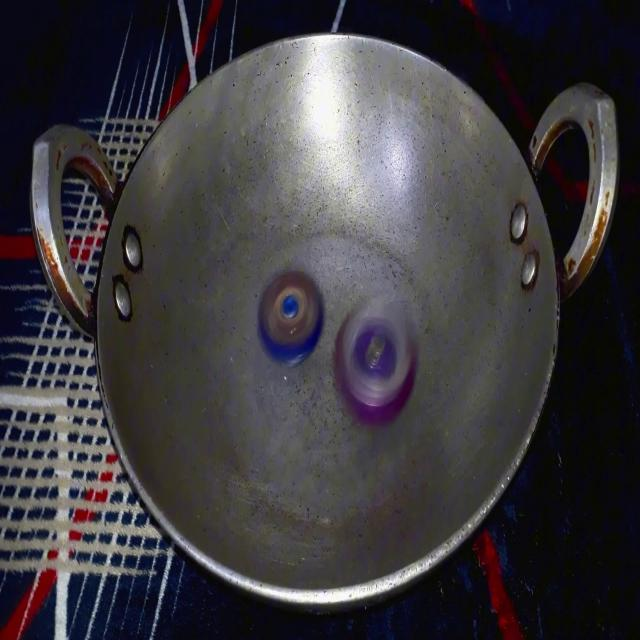beyblade: (329, 293, 424, 427), (249, 260, 329, 381)
